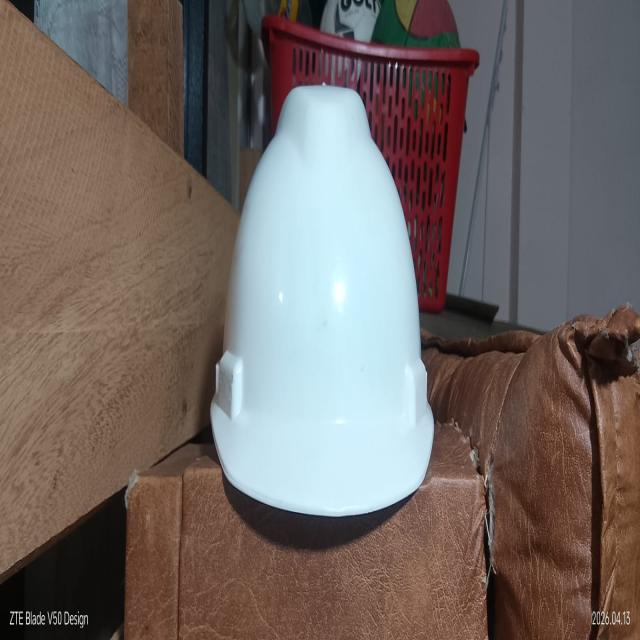casco: (207, 67, 440, 536)
